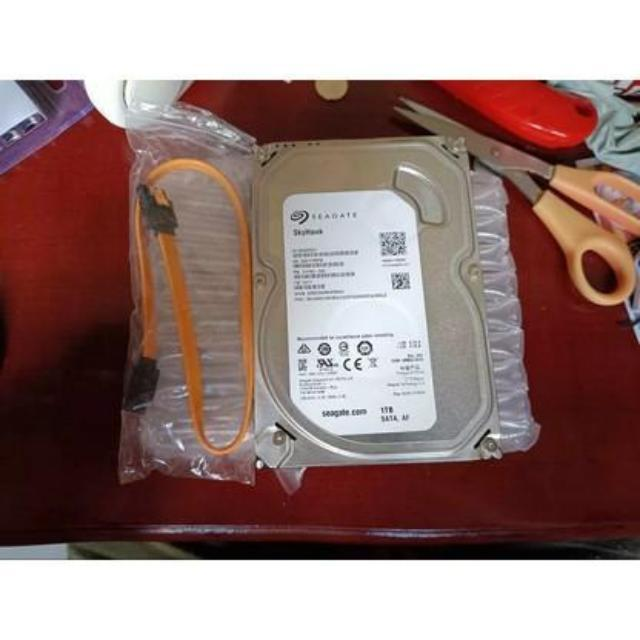DISK: (246, 130, 508, 468)
